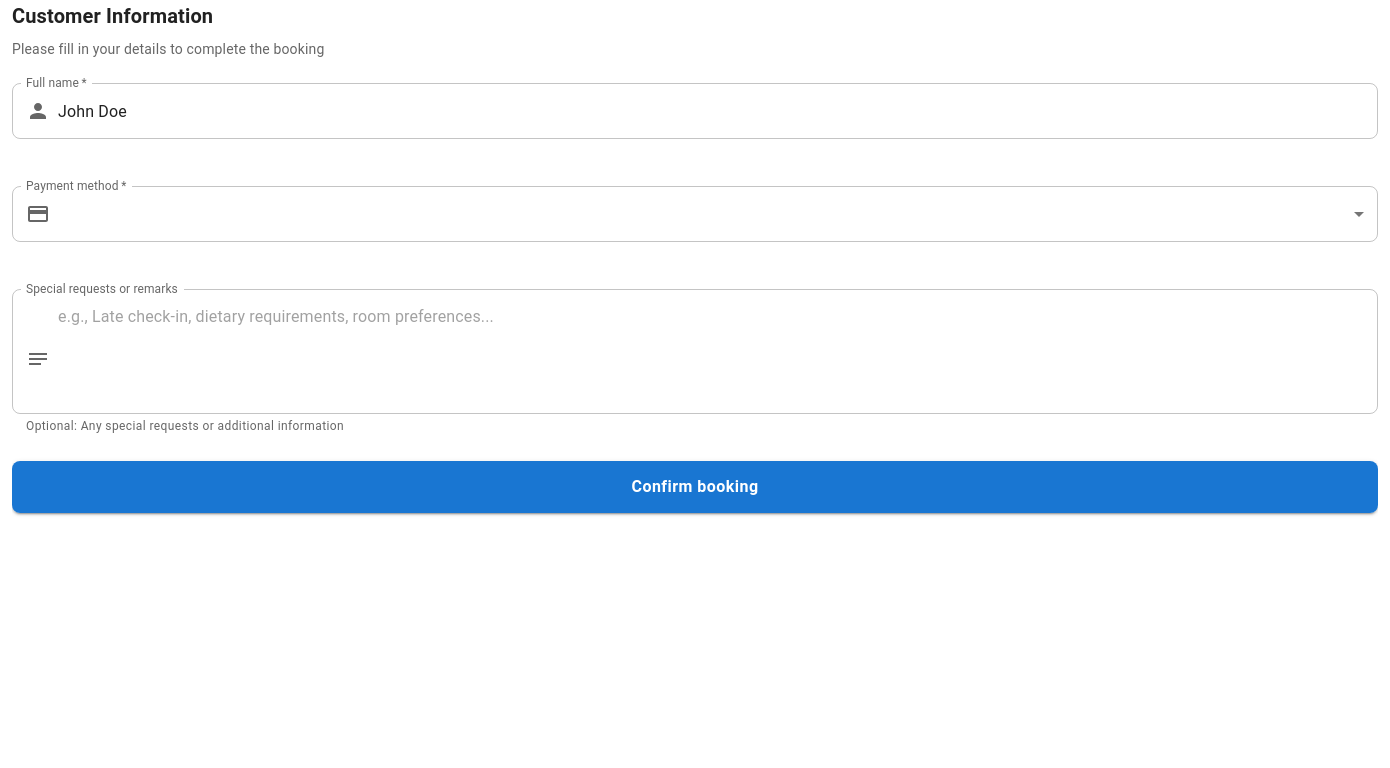
UserInfoForm Validation › shows validation error for empty payment method
The image size is (1390, 768).
Step 1. Click the button "Confirm booking" → (695, 487), box 12,461 -> 1378,513
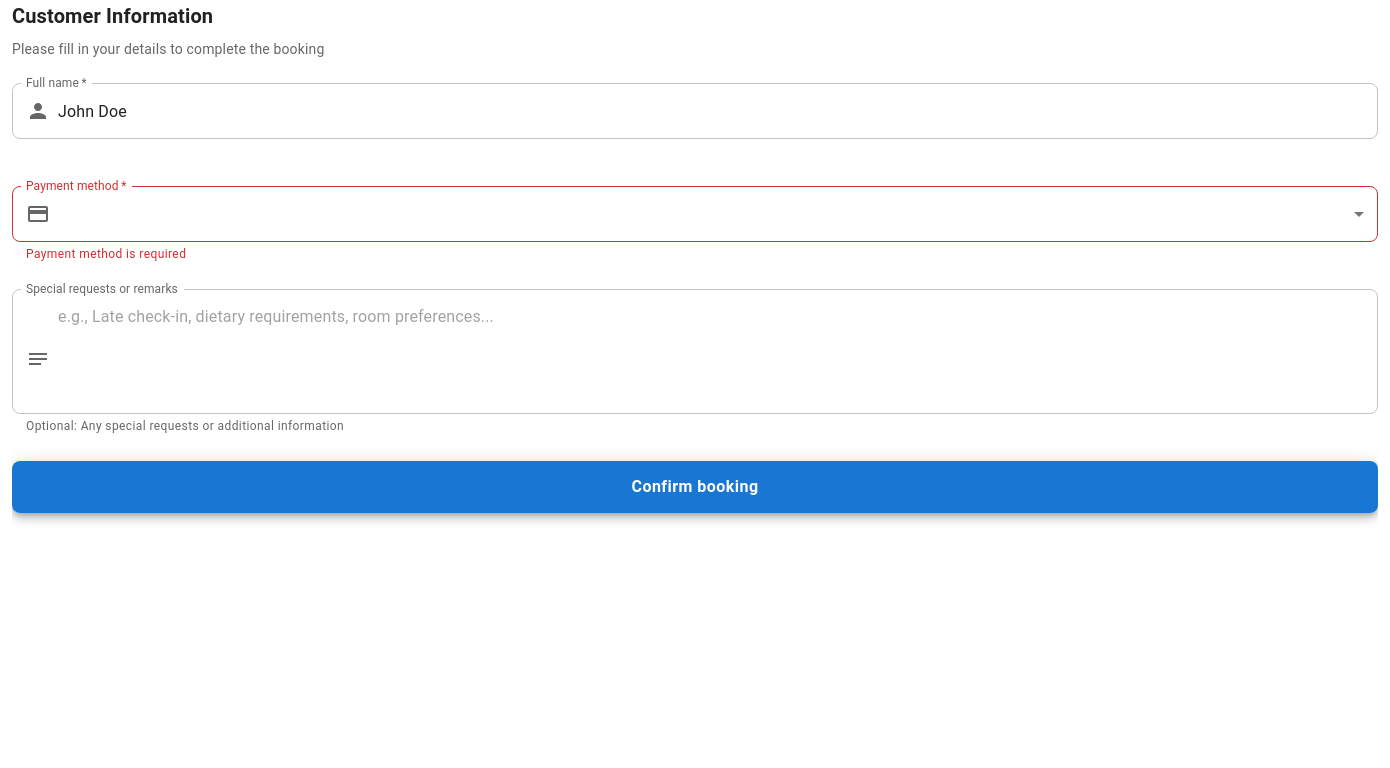
Check: the text "Payment method is required" is shown, box 26,247 -> 186,261
